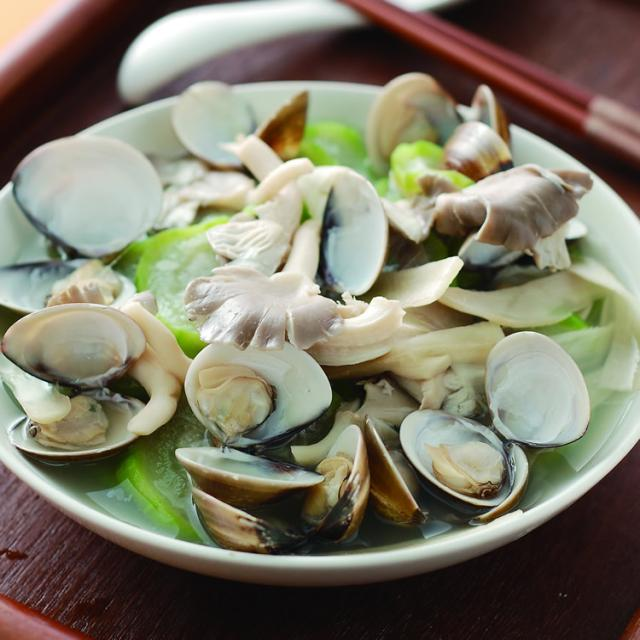Wet: (62, 108, 572, 462)
